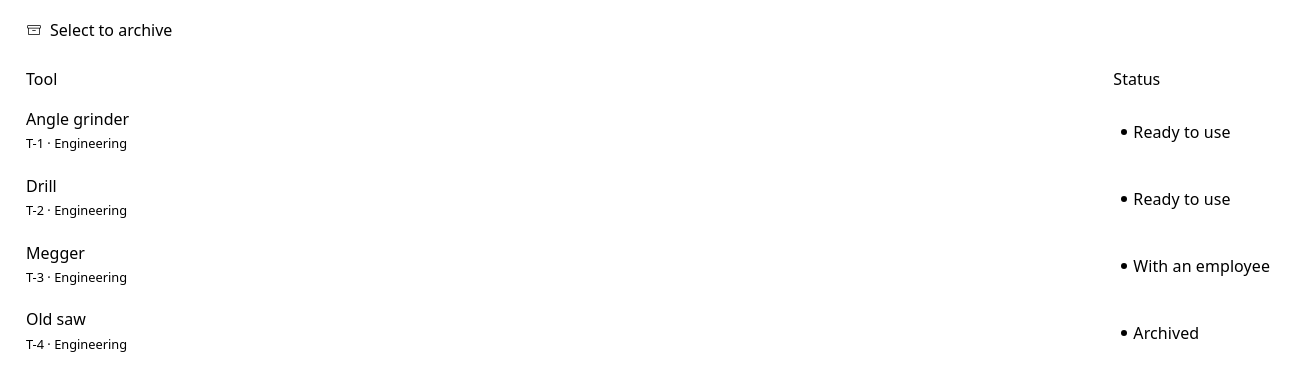
Test: RegisterView › selects every eligible item at once
The image size is (1304, 369).
Click the button "Select to archive": (99, 30) [12,12,186,48]
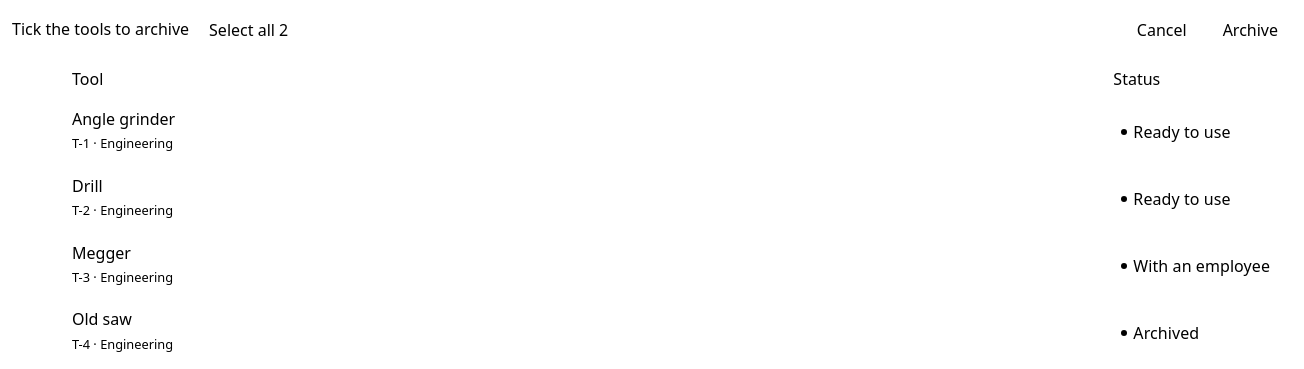
Click the button "Select all 2": (249, 30) [197,14,300,46]
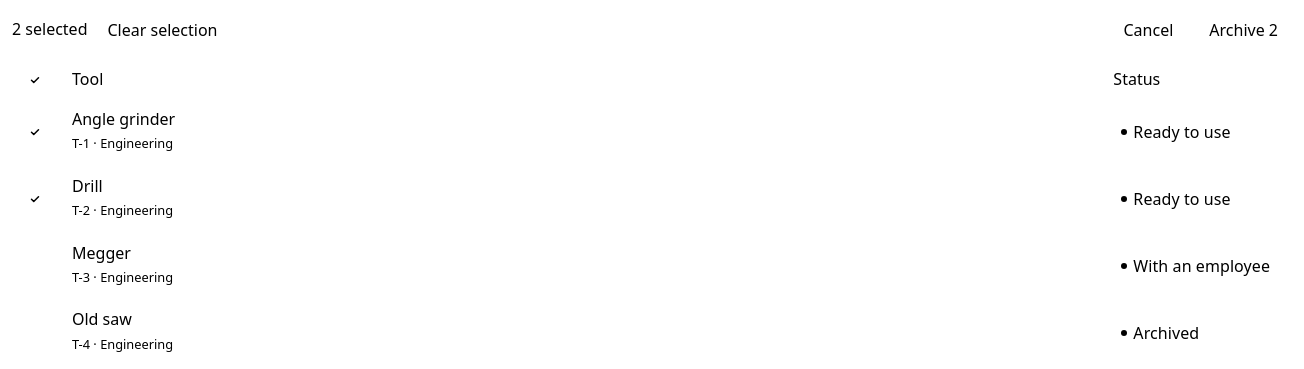
Expected: the text "2 selected" is shown, [12,18,88,42]
Click the button "Clear selection": (162, 30) [96,14,230,46]
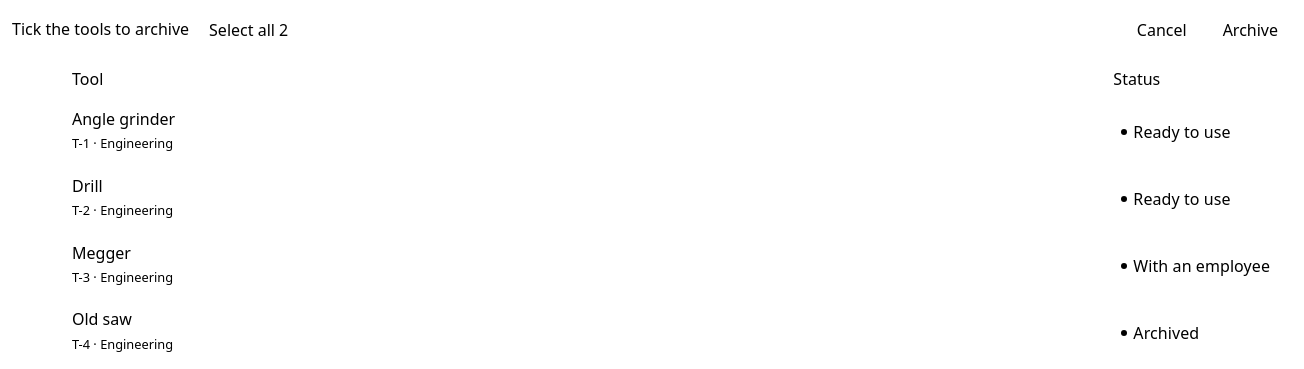
Expected: the text "Tick the tools to archive" is shown, [12,18,189,42]
